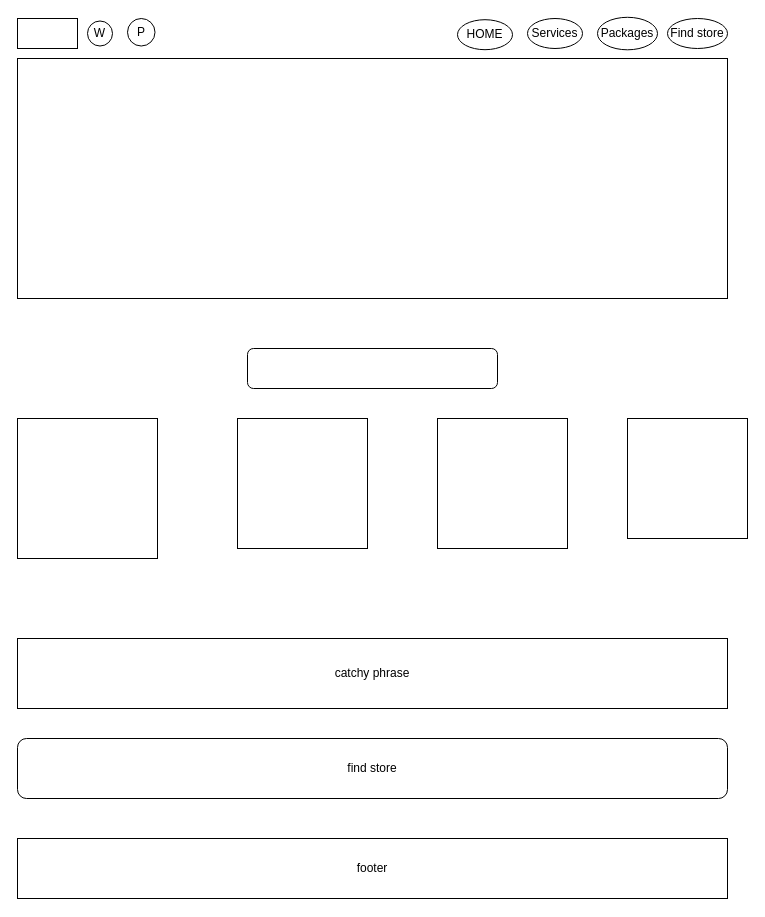
This 765x917 diagram has some shape labels left out. The shapes that lost their labels are listed below. From the top down, each one's box as (x1, y1, x2, y2) in pixels, then its label:
(16, 18, 78, 48): Logo
(246, 348, 498, 388): brochure
